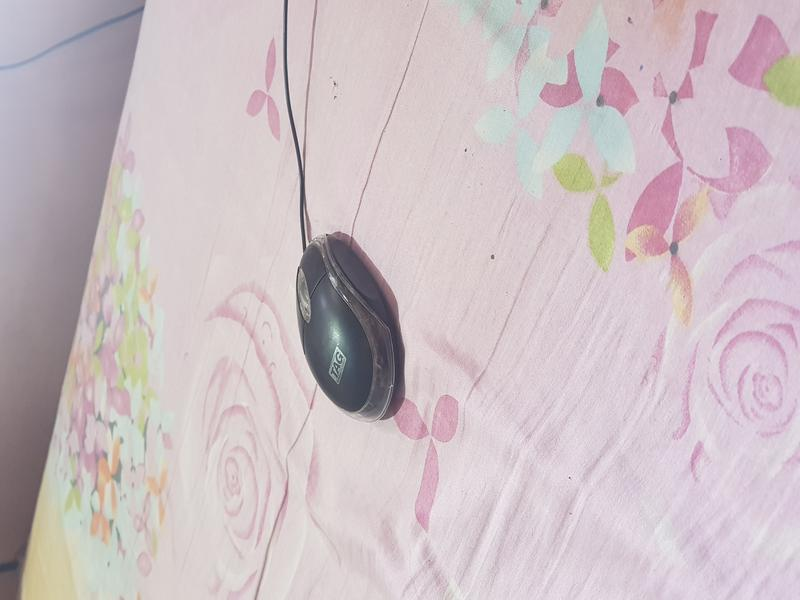mouse: (256, 215, 443, 438)
